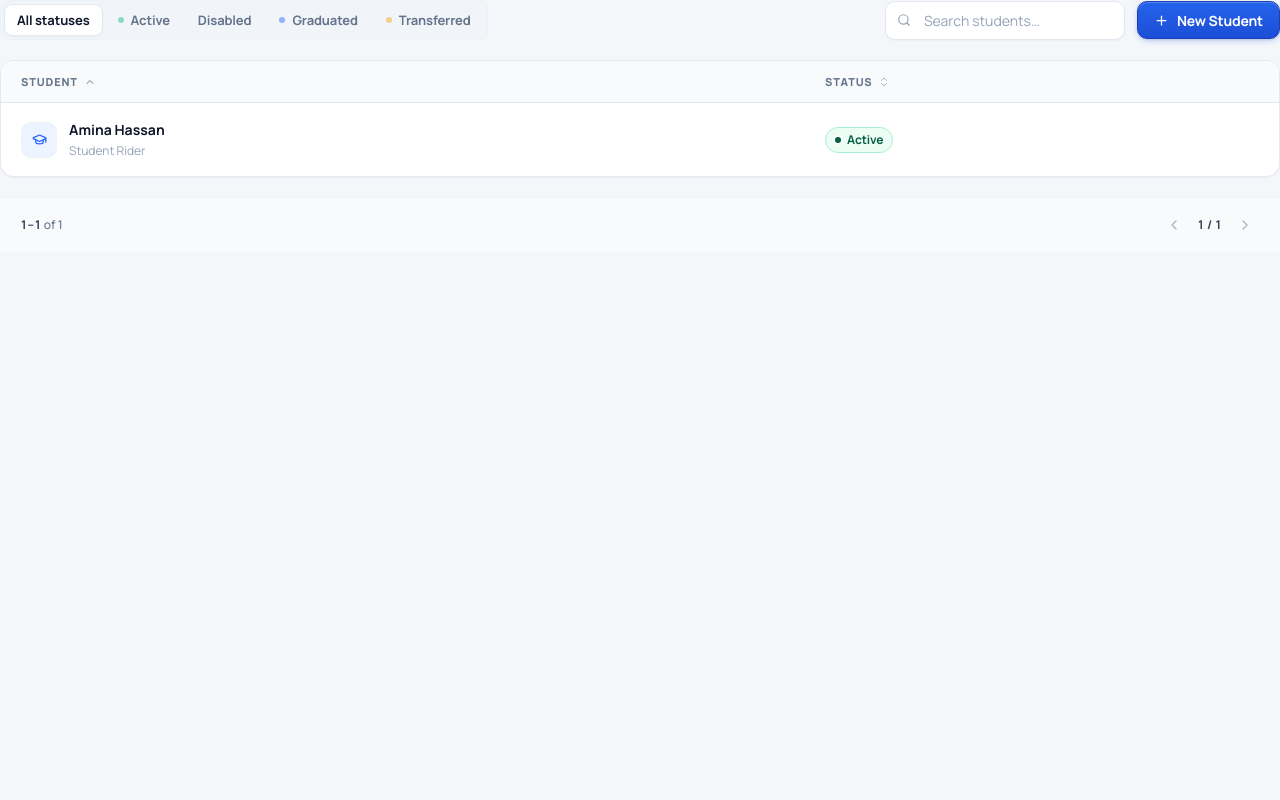
StudentsPage › shows the CR-1 gate's current state and lets a founder assign a student with no active route
Click the text "Amina Hassan". click: point(117, 130)
box: [69, 119, 165, 141]
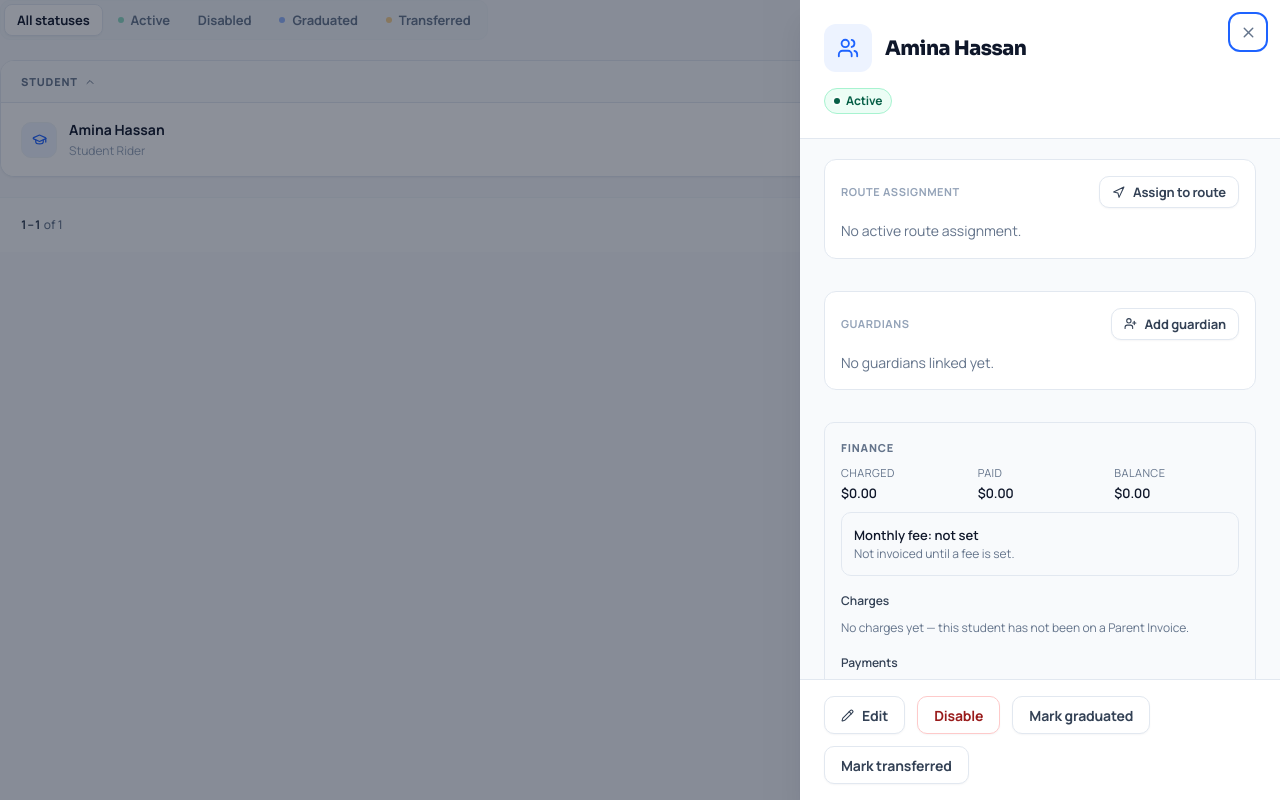
Now the text "No active route assignment." is shown, box [841, 221, 1021, 240]
Click the button "Assign to route". click: point(1169, 192)
box: [1099, 176, 1239, 208]
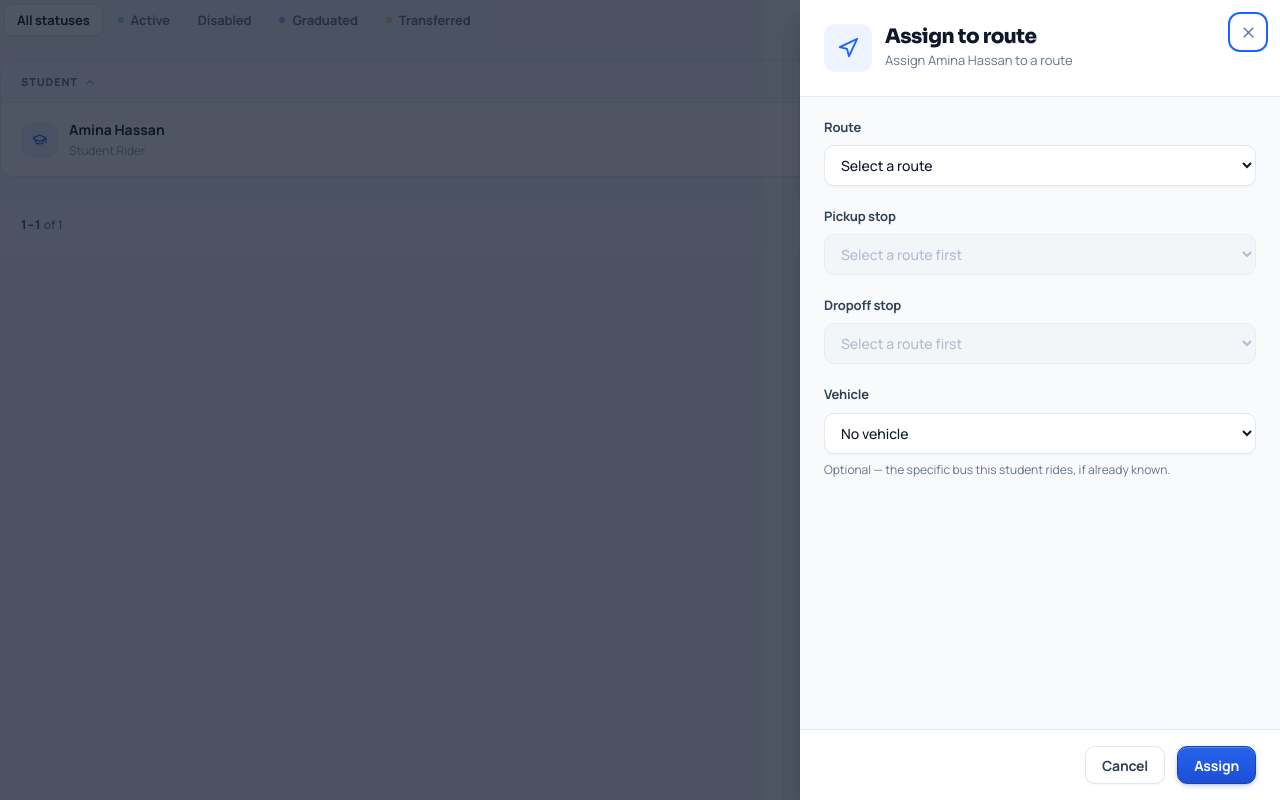
Now the text "Assign Amina Hassan to a route" is shown, box [885, 50, 1077, 70]
